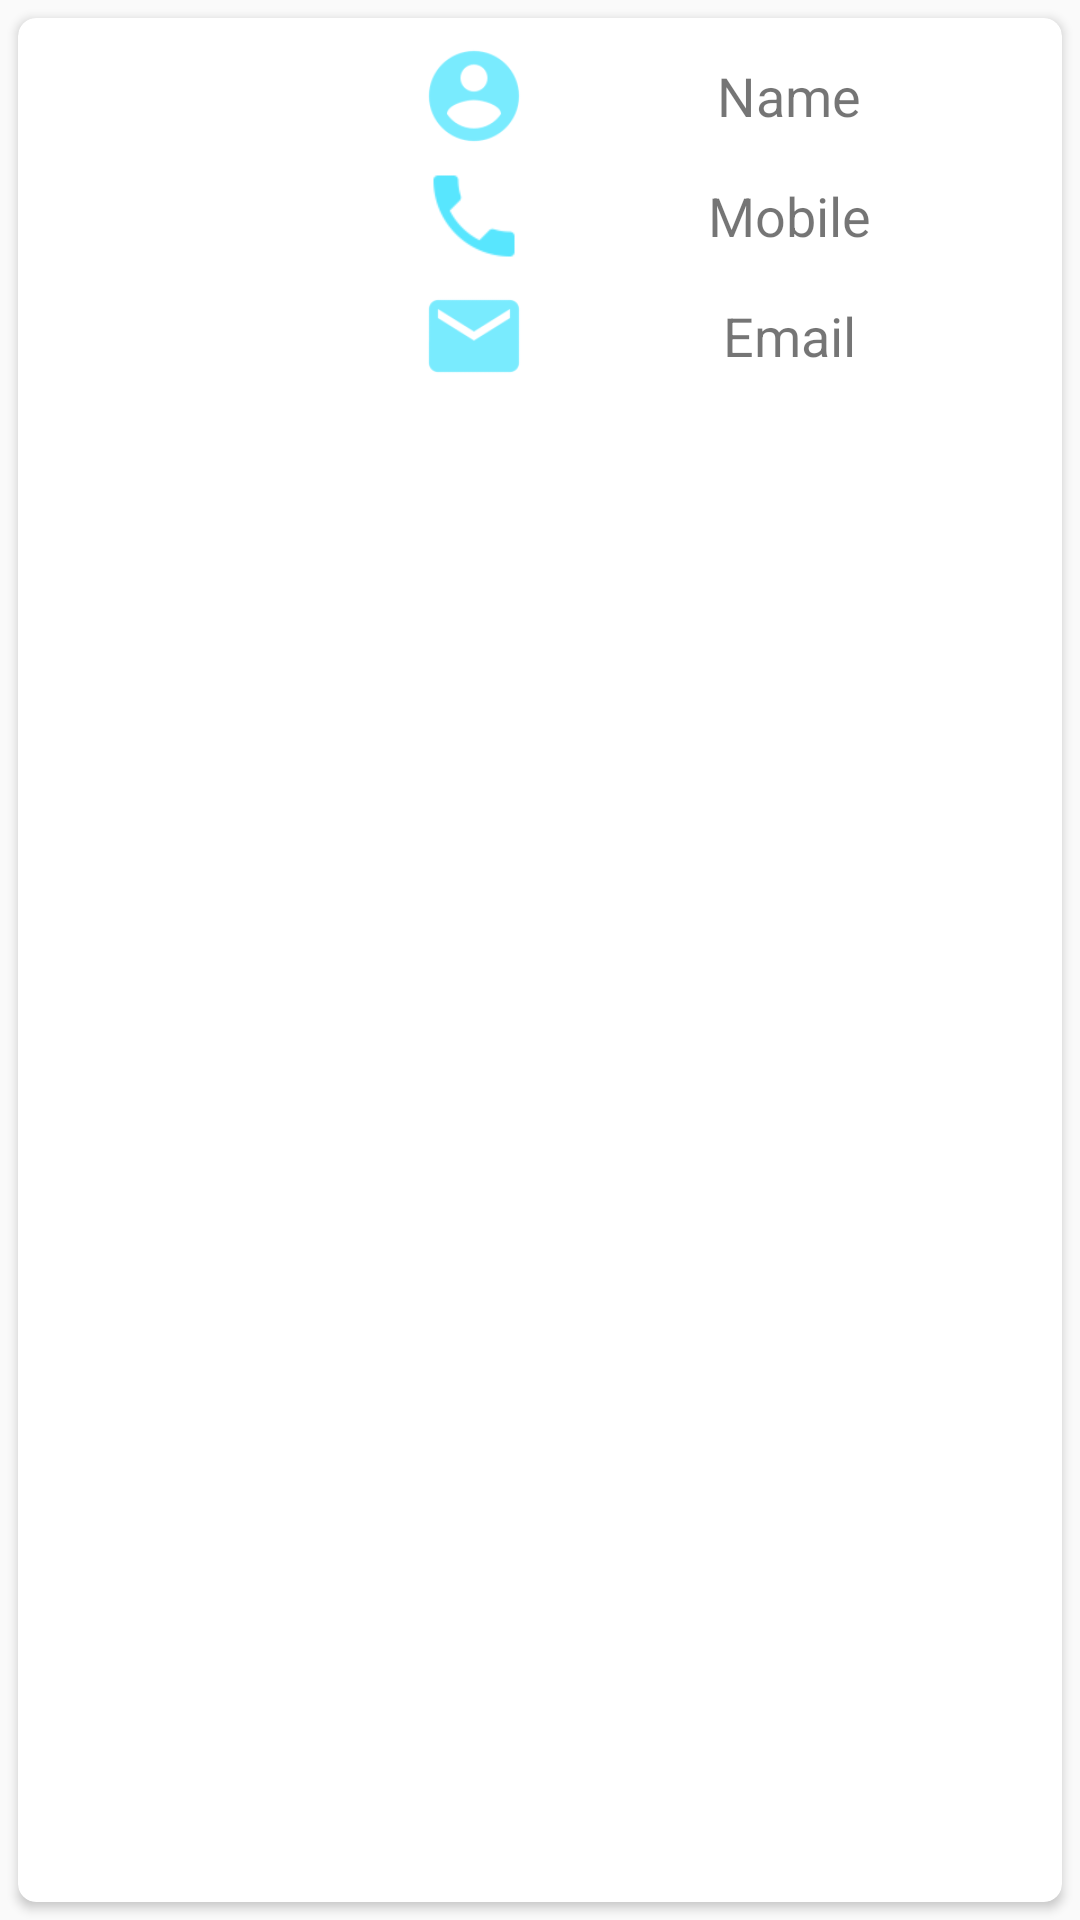

Where to tap for icons on this 1080px x 1920px app screen, as [x,y]:
phone: [474,216]
profile: [474,96]
